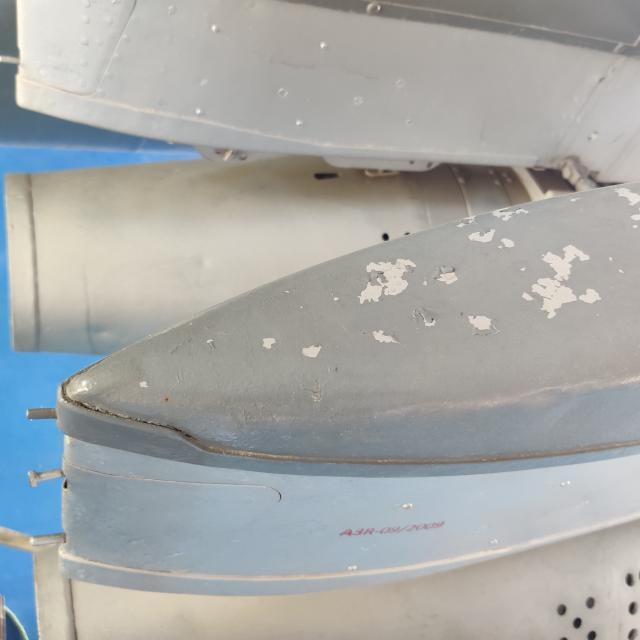Paint-off: (523, 245, 603, 319), (359, 258, 416, 304), (411, 306, 440, 330), (468, 315, 501, 336), (492, 207, 530, 222), (435, 265, 459, 286), (468, 228, 497, 244), (617, 187, 640, 206), (373, 330, 399, 344), (302, 345, 323, 358), (261, 337, 277, 350), (457, 218, 476, 228), (499, 238, 516, 248), (633, 214, 640, 220)
